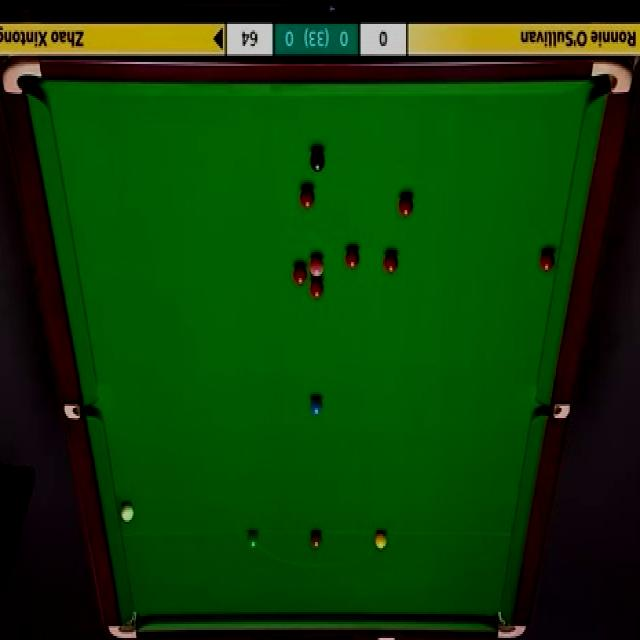black-ball: (310, 148, 324, 172)
blue-ball: (309, 399, 321, 416)
brown-ball: (309, 531, 323, 549)
green-ball: (245, 530, 260, 552)
pink-ball: (309, 254, 324, 278)
red-ball: (399, 194, 414, 219), (383, 253, 400, 274), (299, 187, 314, 210), (345, 246, 360, 269), (293, 265, 307, 287), (309, 278, 323, 300), (541, 251, 555, 272)
white-ball: (119, 498, 135, 525)
yellow-ball: (375, 531, 387, 551)
